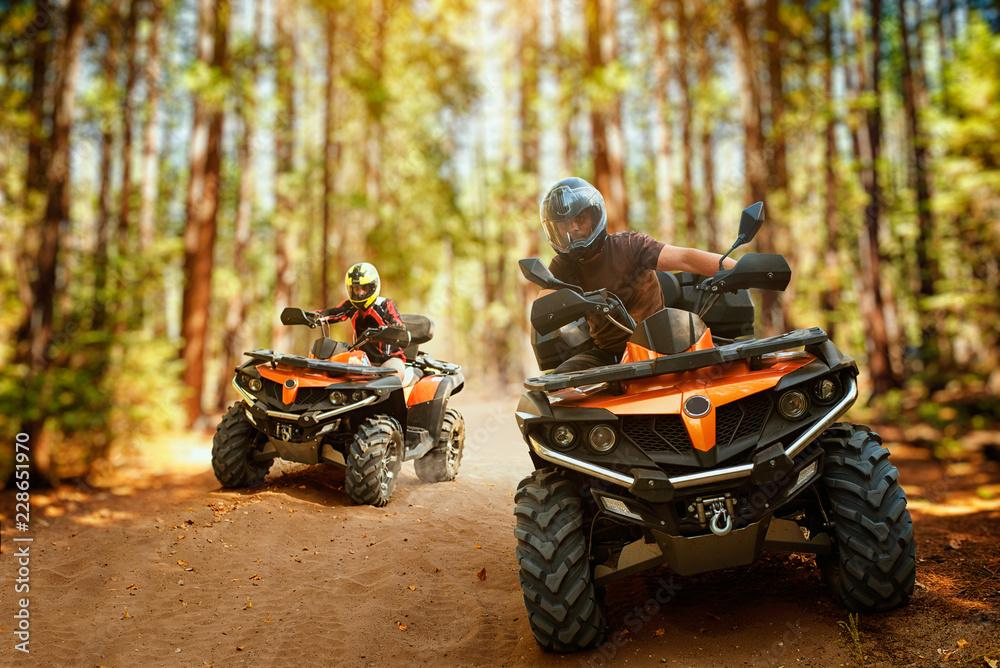helmet: (539, 176, 609, 263), (344, 262, 382, 313)
